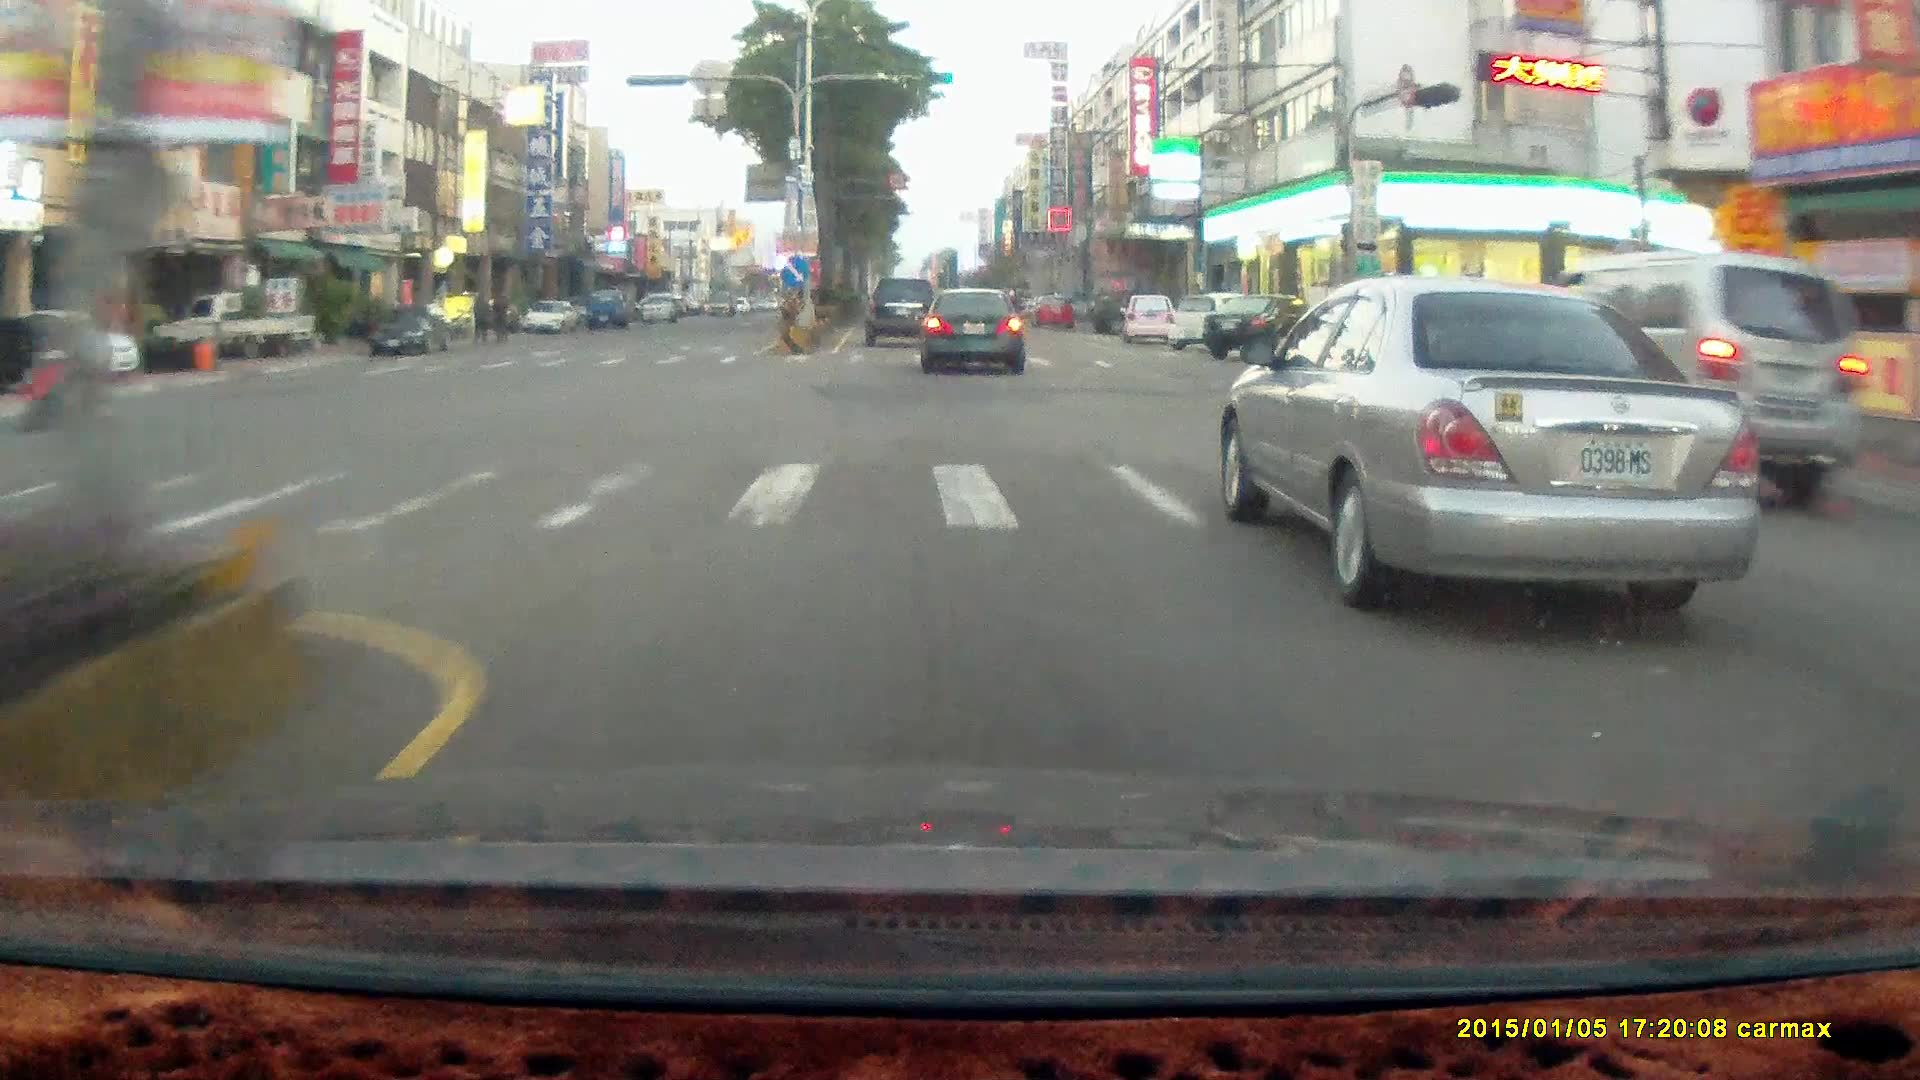pedestrian: (492, 281, 515, 342), (470, 287, 492, 345), (489, 289, 510, 345), (469, 289, 490, 346)
vehicle: (1224, 283, 1762, 603), (1510, 252, 1869, 511), (1511, 255, 1874, 496), (153, 293, 319, 371), (145, 291, 314, 364), (1, 313, 129, 396), (924, 292, 1032, 382), (921, 287, 1025, 376), (1202, 290, 1329, 357), (0, 312, 105, 389), (1206, 295, 1317, 362), (363, 299, 459, 360), (1170, 293, 1264, 353), (863, 275, 937, 352), (864, 275, 940, 346), (370, 307, 451, 355), (1116, 296, 1177, 348), (1089, 290, 1157, 335), (1122, 294, 1177, 346), (520, 299, 581, 337), (520, 300, 575, 333), (585, 288, 624, 327), (1031, 293, 1073, 328), (638, 293, 673, 322)
